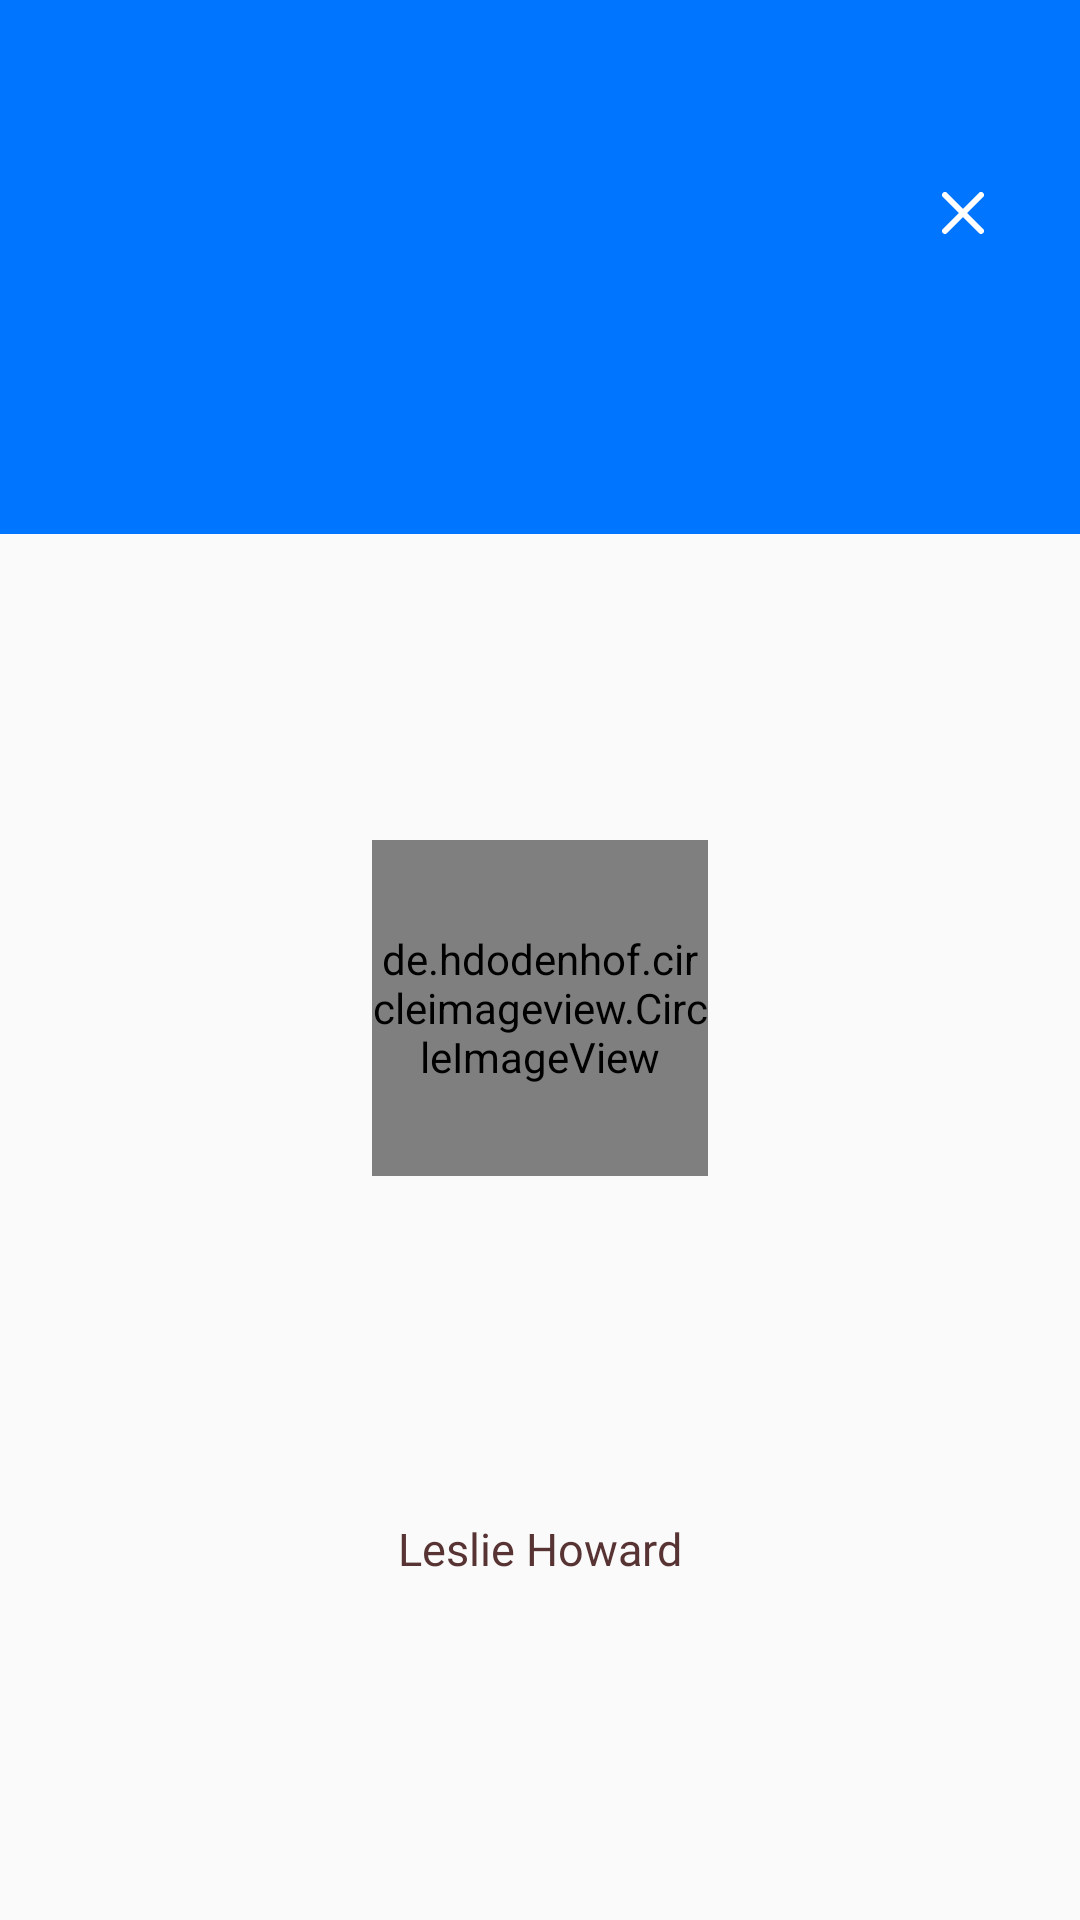

Icon bounding boxes for this 1080 × 1920 phone screenshot, format [x1,y1,x2,y2]:
close cross: [942,192,984,234]
